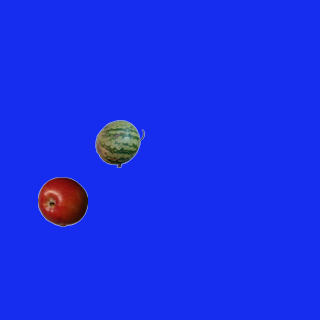Apple Braeburn: (37, 176, 87, 226)
Watermelon: (94, 118, 144, 168)
